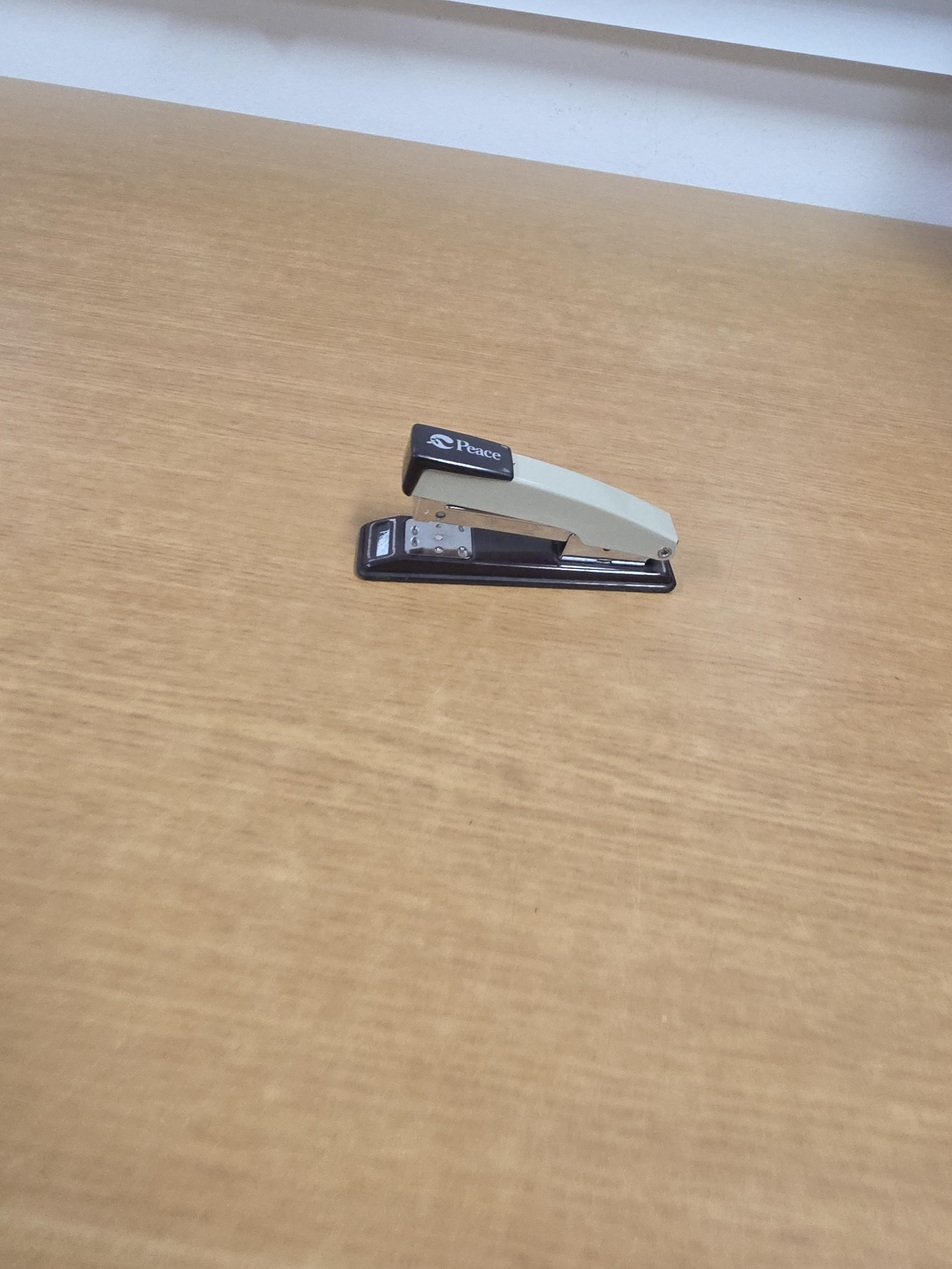stapler: (354, 423, 681, 595)
